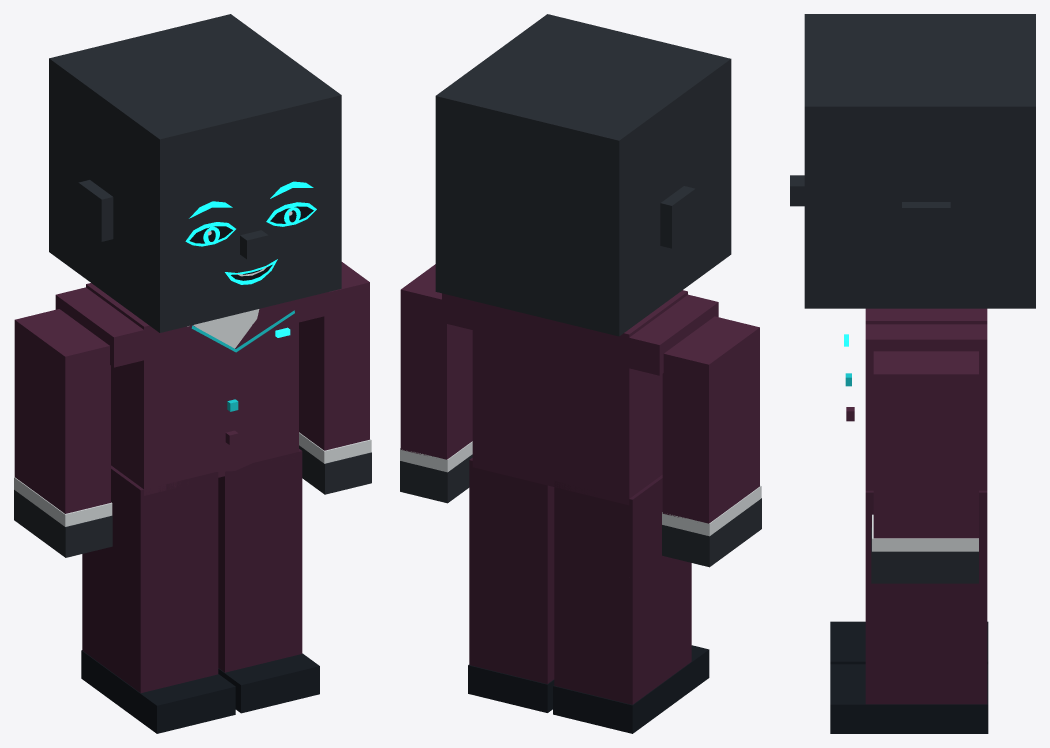
File: agent_male_base_bald.glb
3 renders of one model, left to right at view 1: azimuth 30°, elevation 25°; view 2: azimuth 150°, elevation 25°; view 3: azimuth 270°, elevation 25°, orthographic. The views are drawn at different scales.
Visible parts, largest first — view 1: char_head_visual, char_torso_visual, char_leg_negx_visual, char_arm_negx_visual, char_leg_posx_visual, char_arm_posx_visual, char_hand_negx_visual, char_hand_posx_visual, char_eye_posx_visual, char_eye_negx_visual; view 2: char_head_visual, char_torso_visual, char_leg_negx_visual, char_arm_negx_visual, char_leg_posx_visual, char_arm_posx_visual, char_hand_negx_visual, char_hand_posx_visual; view 3: char_head_visual, char_arm_posx_visual, char_leg_posx_visual, char_torso_visual, char_hand_posx_visual, char_leg_negx_visual.
Part boxes in pixels (left/top/right/bottom): char_head_visual: left=49, top=14, right=341, bottom=332; char_torso_visual: left=55, top=283, right=329, bottom=572; char_leg_negx_visual: left=81, top=547, right=235, bottom=733; char_arm_negx_visual: left=14, top=309, right=112, bottom=526; char_leg_posx_visual: left=218, top=528, right=319, bottom=713; char_arm_posx_visual: left=299, top=262, right=371, bottom=463; char_hand_negx_visual: left=14, top=490, right=112, bottom=557; char_hand_posx_visual: left=299, top=445, right=371, bottom=494; char_eye_posx_visual: left=266, top=202, right=316, bottom=226; char_eye_negx_visual: left=185, top=222, right=235, bottom=246; char_head_visual: left=435, top=14, right=731, bottom=336; char_torso_visual: left=442, top=290, right=718, bottom=577; char_leg_negx_visual: left=553, top=556, right=709, bottom=733; char_arm_negx_visual: left=662, top=316, right=761, bottom=536; char_leg_posx_visual: left=468, top=538, right=554, bottom=712; char_arm_posx_visual: left=400, top=264, right=472, bottom=472; char_hand_negx_visual: left=662, top=498, right=761, bottom=567; char_hand_posx_visual: left=400, top=454, right=472, bottom=503; char_head_visual: left=790, top=14, right=1035, bottom=308; char_arm_posx_visual: left=872, top=351, right=978, bottom=551; char_leg_posx_visual: left=830, top=579, right=988, bottom=733; char_torso_visual: left=845, top=308, right=987, bottom=579; char_hand_posx_visual: left=871, top=527, right=978, bottom=583; char_leg_negx_visual: left=830, top=621, right=988, bottom=664.
Bounding box in the file's own units: 0.91 × 1.72 × 0.606.
